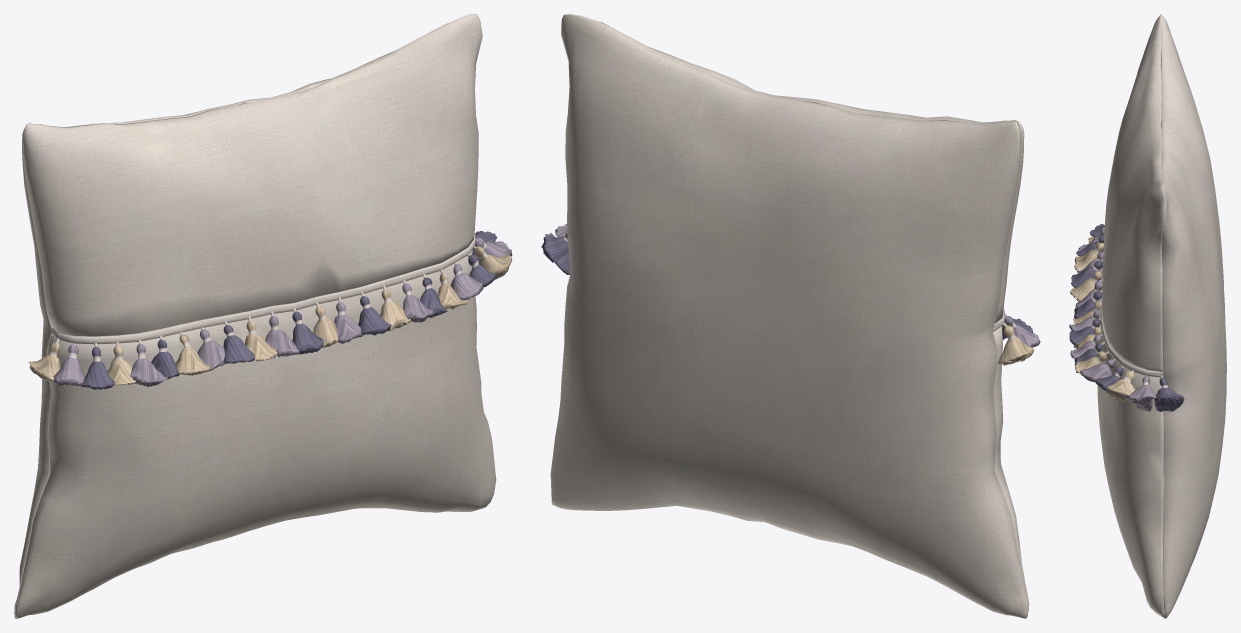
File: B07JLSSWLN.glb
3 views of the same model, side by side, from view 1: azimuth 30°, elevation 25°; view 2: azimuth 150°, elevation 25°; view 3: azimuth 270°, elevation 25° (orthographic). The views are drawn at different scales.
Visible parts, largest first — view 1: RootNode; view 2: RootNode; view 3: RootNode.
Boxes of the visible parts, <box> form: RootNode: <box>14,14,512,618</box>; RootNode: <box>541,14,1040,618</box>; RootNode: <box>1069,14,1226,618</box>.
Bounding box in the file's own units: 0.4891 × 0.4814 × 0.1653.
Materials: 1 (1 with a texture image).
